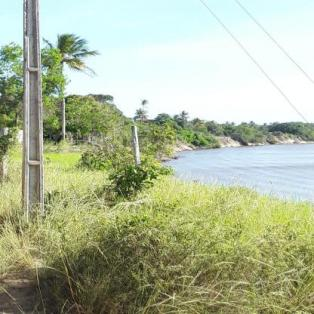Poste: (9, 0, 54, 208)
